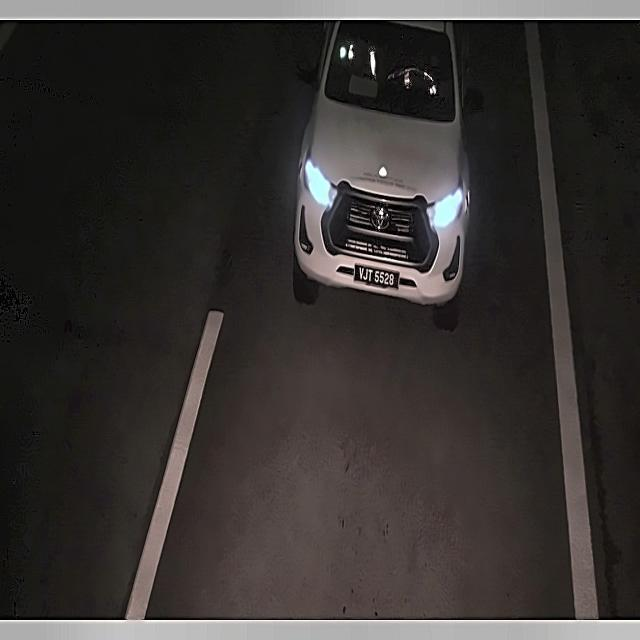car: (350, 255, 403, 297)
